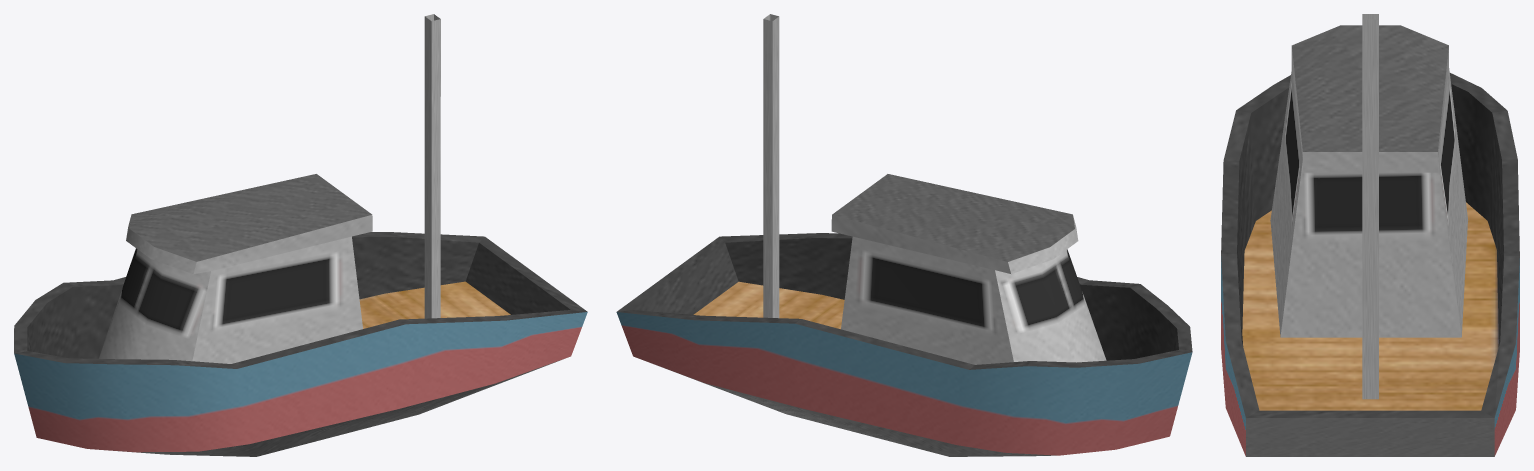
Rendered from kater1.FBX.
3 renders of one model, left to right at view 1: azimuth 30°, elevation 25°; view 2: azimuth 150°, elevation 25°; view 3: azimuth 270°, elevation 25°, orthographic. The views are drawn at different scales.
Visible parts, largest first — view 1: kater1; view 2: kater1; view 3: kater1.
Boxes of the visible parts, <box> form: kater1: <box>14,14,587,456</box>; kater1: <box>616,14,1192,456</box>; kater1: <box>1221,14,1519,456</box>.
Size of the model in its own units: 821 by 533 by 336.
